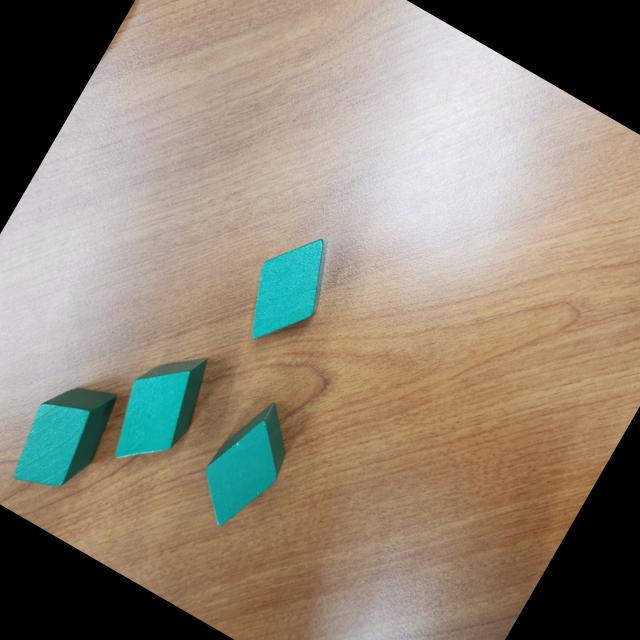green: (95, 331, 226, 484), (184, 390, 310, 540), (2, 364, 128, 510), (228, 220, 348, 360)
